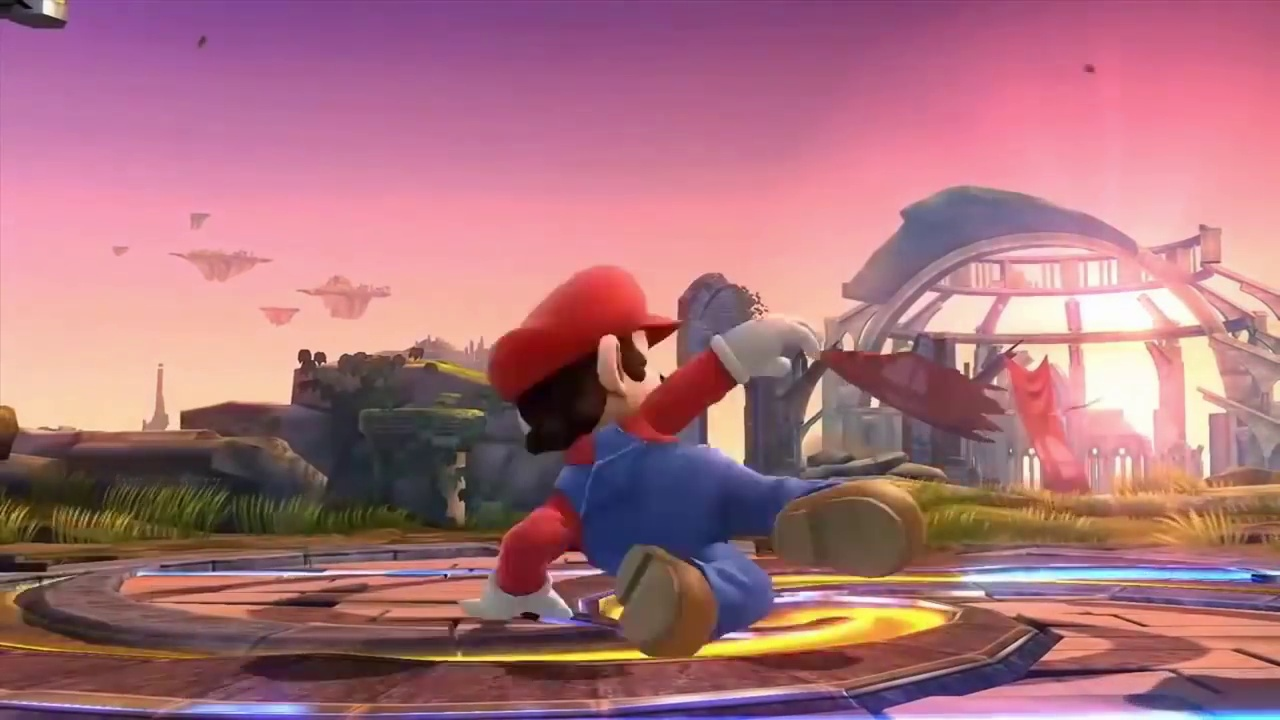Mario: (460, 267, 922, 658)
